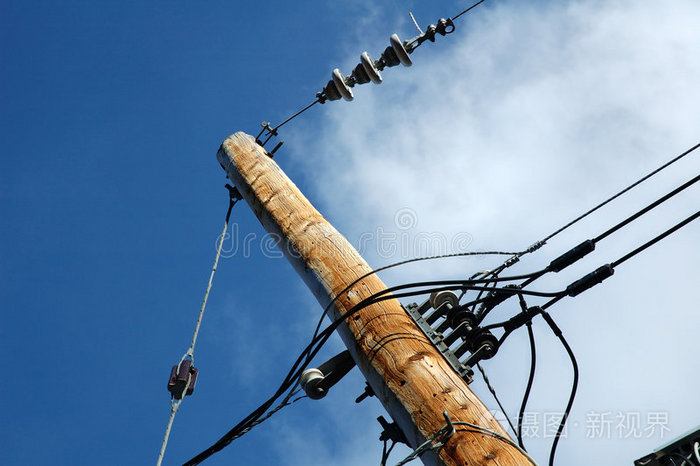insulator: (325, 33, 412, 104)
